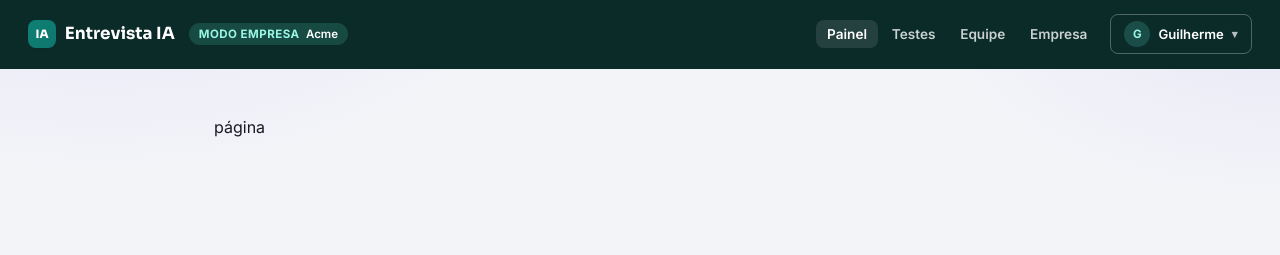
Test case: Layout › recrutador: o menu de conta separa as configurações pessoais das da empresa
Click the button "G Guilherme ▾".
click(1181, 34)  # box [1110,14,1252,54]
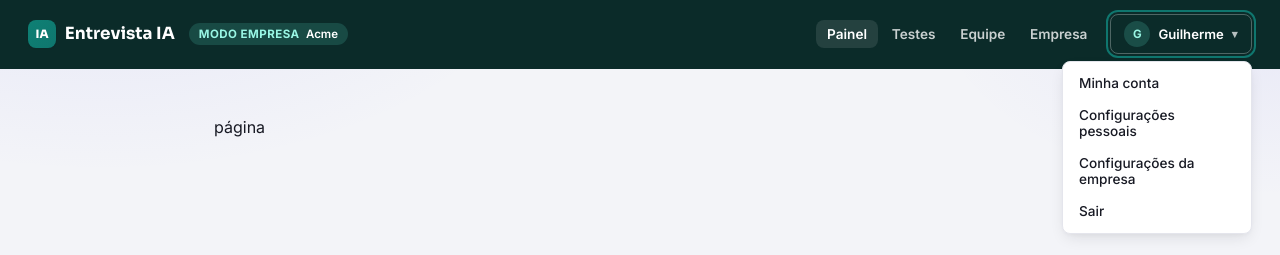
Expected: the menu item "Configurações pessoais" is shown, [1079,107,1175,139]
